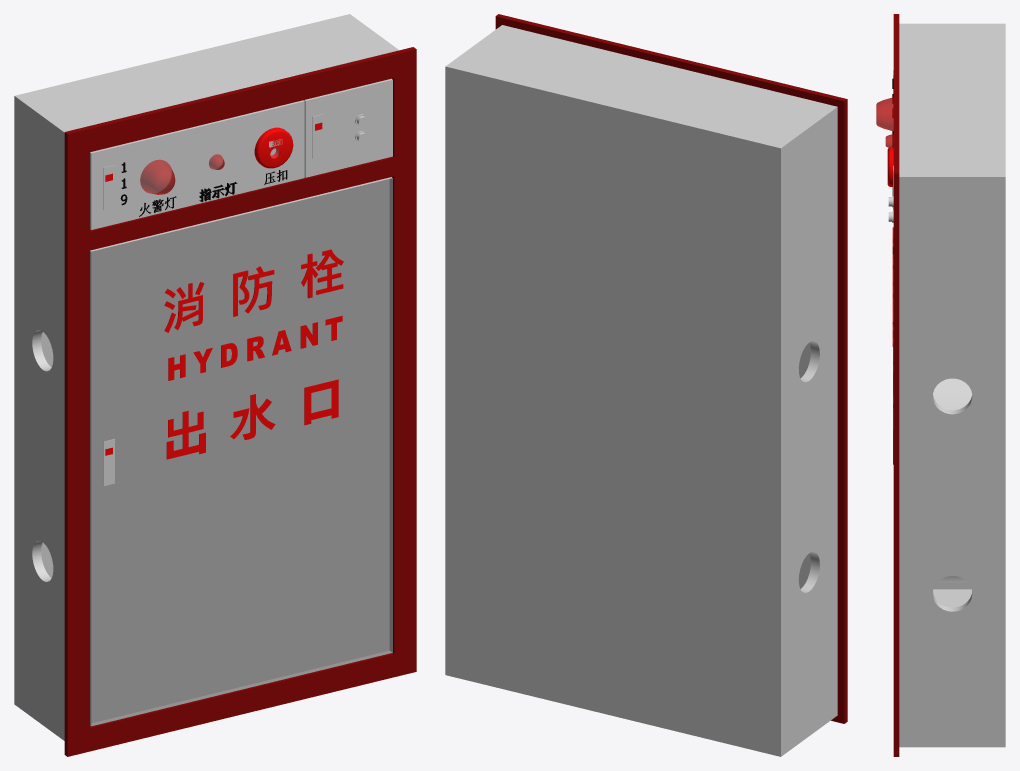
Rendered from 0-Hydrant.fbx.
3 renders of one model, left to right at view 1: azimuth 30°, elevation 25°; view 2: azimuth 150°, elevation 25°; view 3: azimuth 270°, elevation 25°, orthographic. The views are drawn at different scales.
Parts seen in each view (by area): view 1: Group3, Group6, Group1, Group2, Component_30_1; view 2: Group6, Group3; view 3: Group6, Group3, Model, Component_30_1, Group2, Group1.
Part boxes in pixels (<box>): Group3: <box>64,47,416,756</box>; Group6: <box>14,14,398,740</box>; Group1: <box>103,114,343,485</box>; Group2: <box>254,114,367,168</box>; Component_30_1: <box>140,159,175,194</box>; Group6: <box>445,25,837,756</box>; Group3: <box>495,14,847,723</box>; Group6: <box>899,23,1005,747</box>; Group3: <box>893,14,899,756</box>; Model: <box>933,378,972,582</box>; Component_30_1: <box>876,97,893,131</box>; Group2: <box>887,147,893,222</box>; Group1: <box>892,70,893,464</box>.
Bounding box in the file's own units: 78 × 133 × 26.79.
